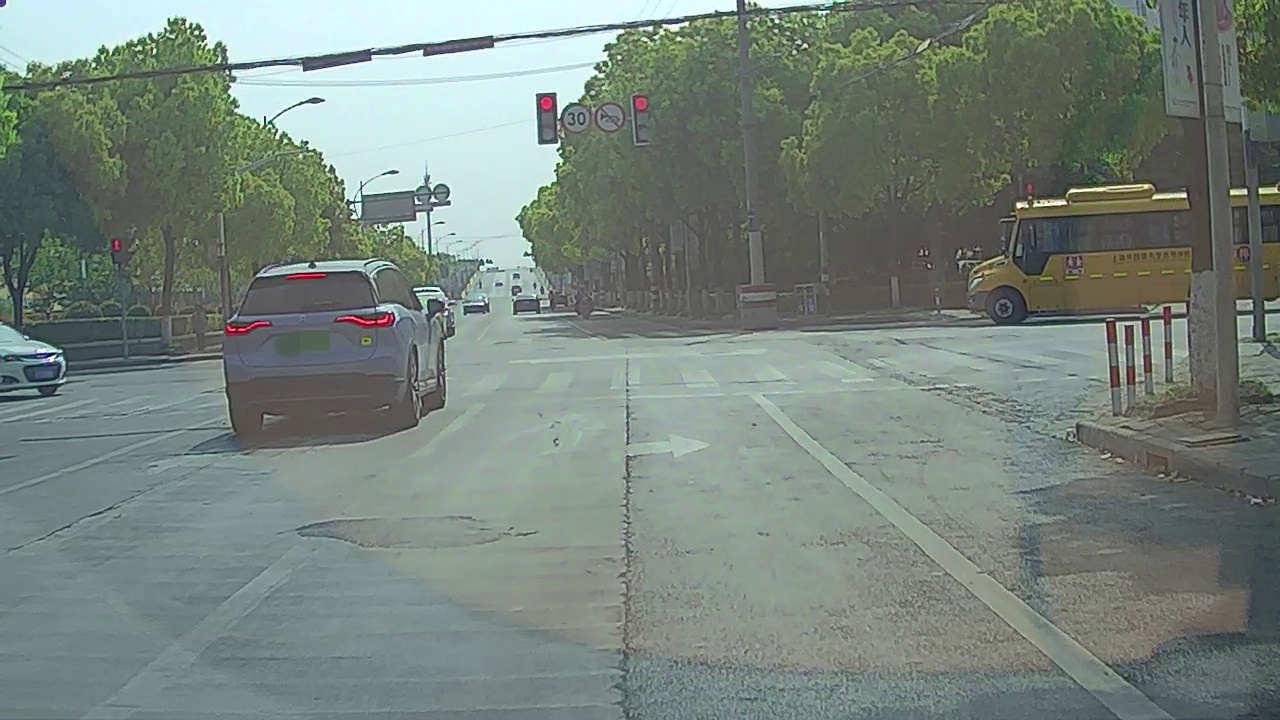traffic_light: (537, 95, 557, 144), (633, 96, 653, 143)
